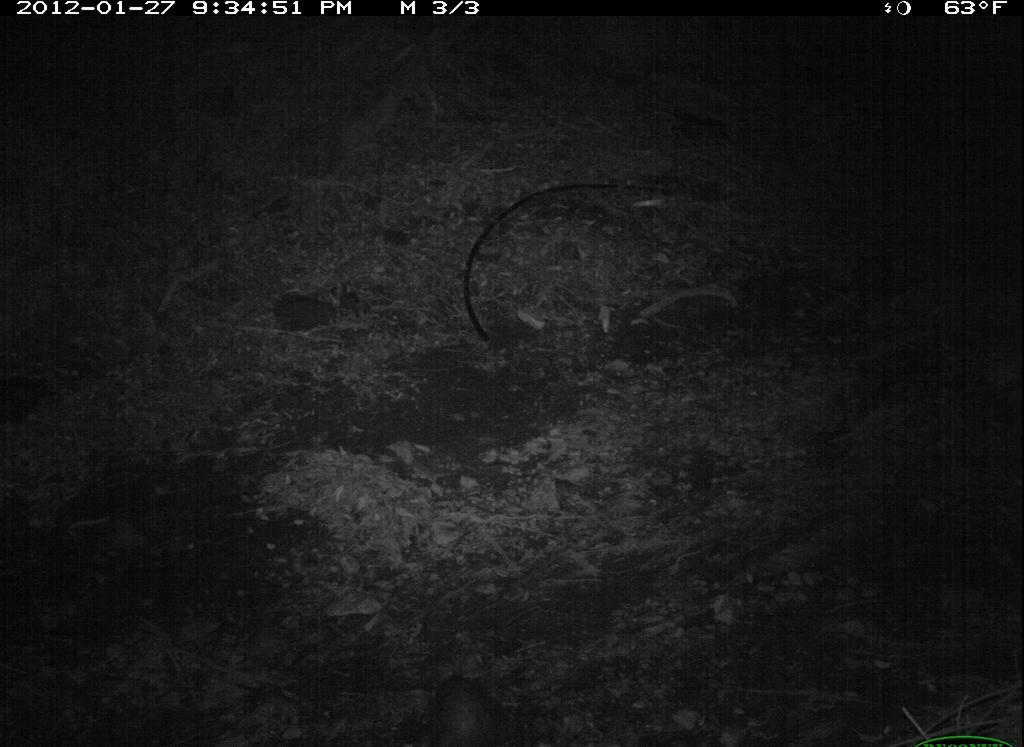opossum: (417, 655, 512, 747)
